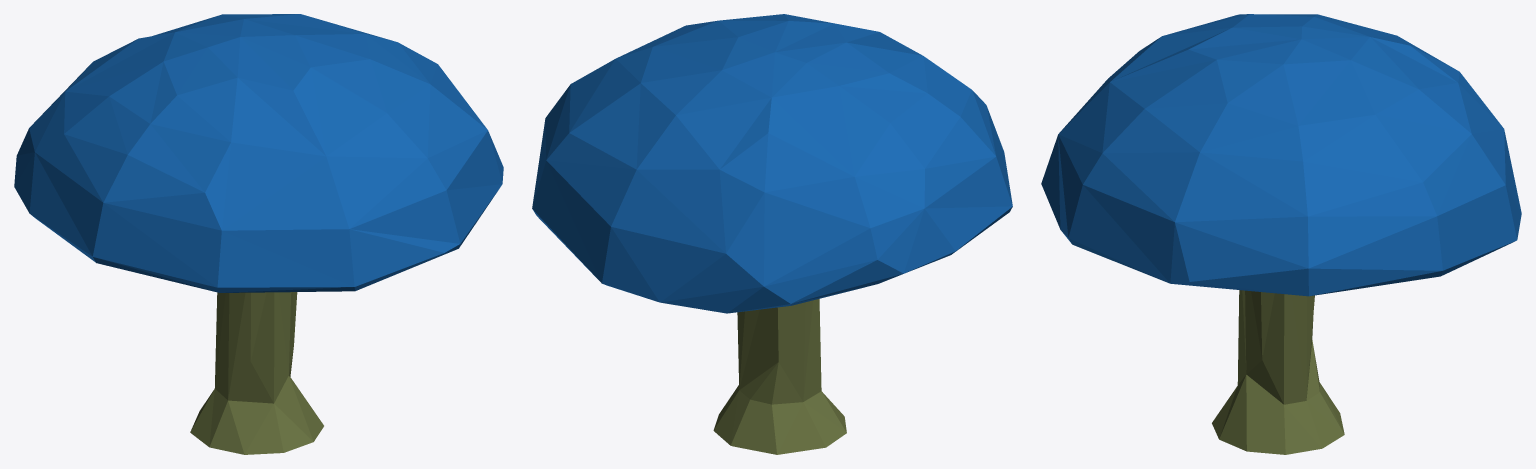
File: SM_Mushroom_V2.FBX
The picture shows the model from 3 angles, left to right: view 1: azimuth 30°, elevation 25°; view 2: azimuth 150°, elevation 25°; view 3: azimuth 270°, elevation 25°; orthographic projection.
Parts seen in each view (by area): view 1: Mushroom_2; view 2: Mushroom_2; view 3: Mushroom_2.
Boxes of the visible parts, x1,y1,x2,y2 form: Mushroom_2: (14,14,503,454); Mushroom_2: (532,14,1012,454); Mushroom_2: (1041,14,1521,454).
Bounding box in the file's own units: 45.85 × 40.06 × 45.12.
